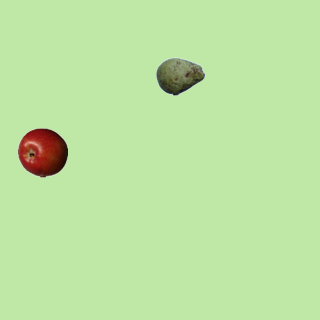Apple Braeburn: (17, 127, 67, 177)
Pear Stone: (155, 51, 205, 101)
